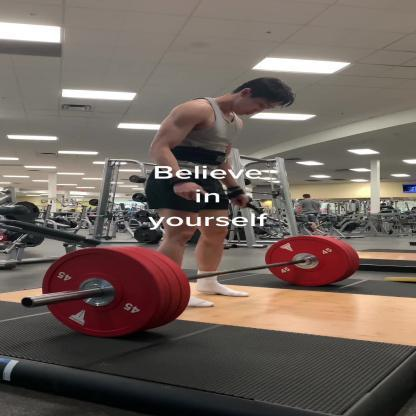barbell: (19, 232, 362, 341)
